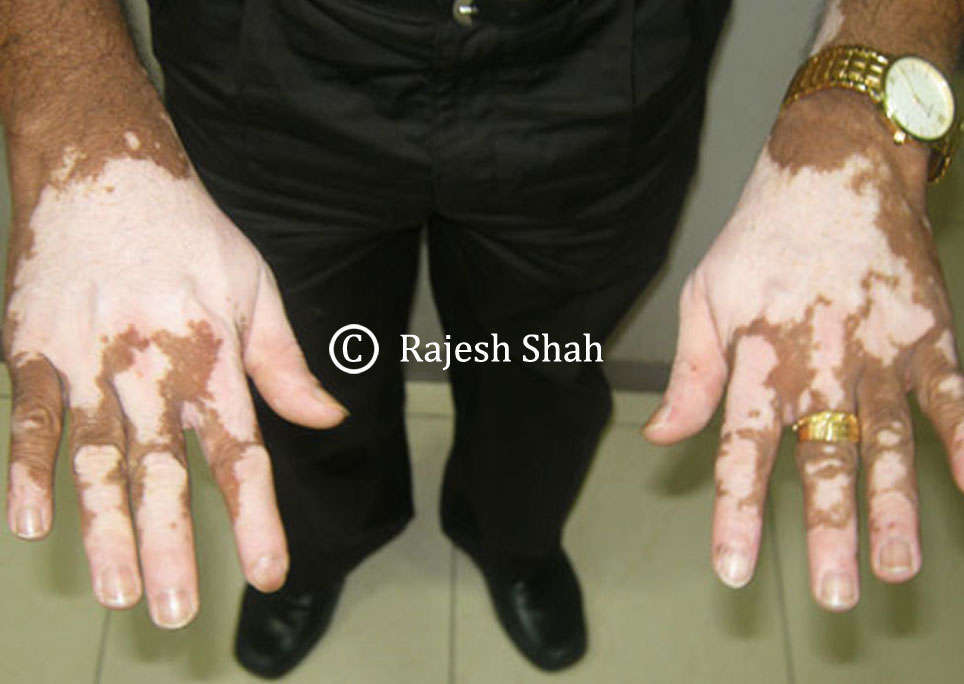Diseased: (22, 160, 361, 634)
